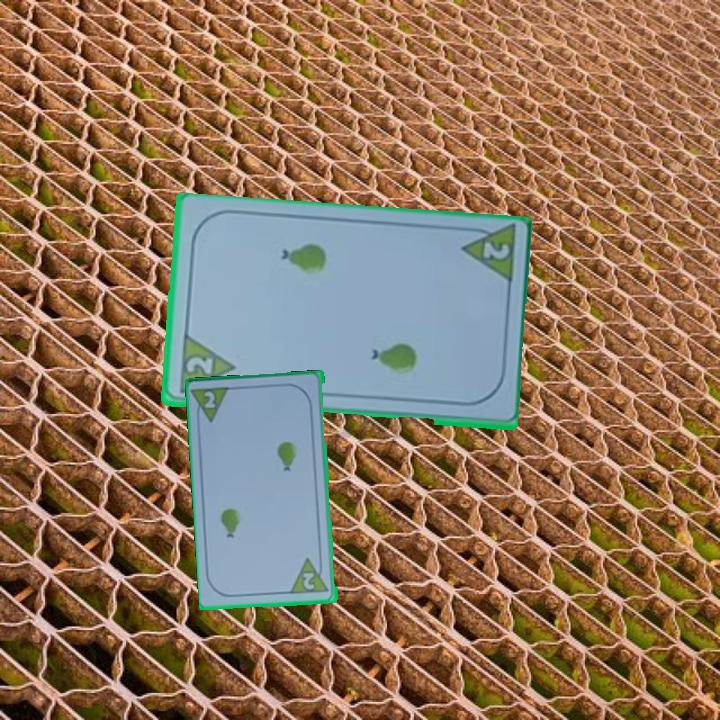2p: (182, 354, 216, 380), (479, 239, 512, 263), (201, 388, 219, 412), (300, 569, 317, 593)
